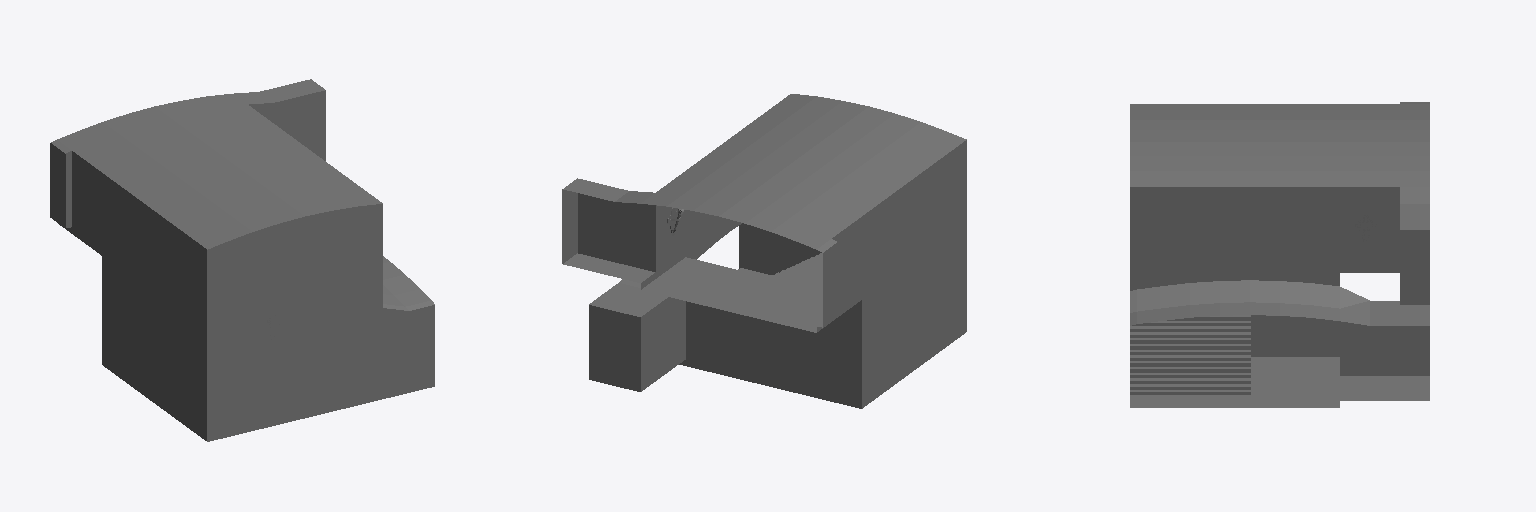
Rendered from catacomb_stairs_2.obj.
The picture shows the model from 3 angles: view 1: azimuth 30°, elevation 25°; view 2: azimuth 150°, elevation 25°; view 3: azimuth 270°, elevation 25°; orthographic projection.
Parts seen in each view (by area): view 1: catacomb_stair_1; view 2: catacomb_stair_1, catacomb_stair_1 stairs_1; view 3: catacomb_stair_1, catacomb_stair_1 stairs_1.
Boxes of the visible parts, x1=… form: catacomb_stair_1: x1=50, y1=79, x2=434, y2=441; catacomb_stair_1: x1=562, y1=94, x2=966, y2=408; catacomb_stair_1 stairs_1: x1=738, y1=253, x2=822, y2=289; catacomb_stair_1: x1=1130, y1=102, x2=1429, y2=407; catacomb_stair_1 stairs_1: x1=1130, y1=315, x2=1339, y2=394.
Size of the model in its own units: 10 by 7.4 by 10.